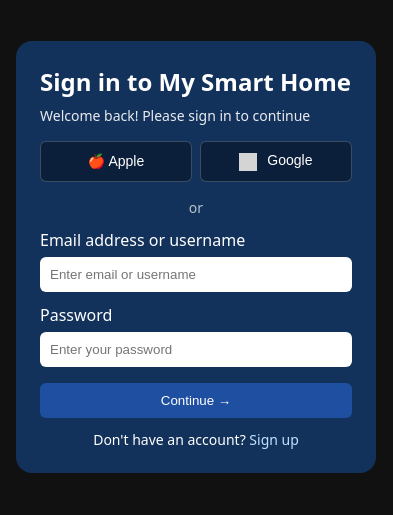
Test: Login Component › Form Validation › shows error when both fields are empty
Click the button "Continue →" at (196, 400), box [40,383,352,418]
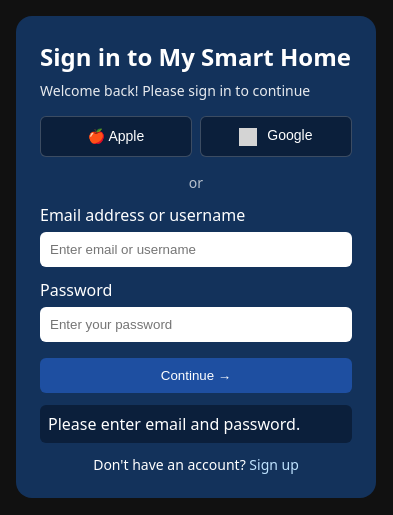
Check: the text "Please enter email and password." is shown, box [40,405,352,443]
